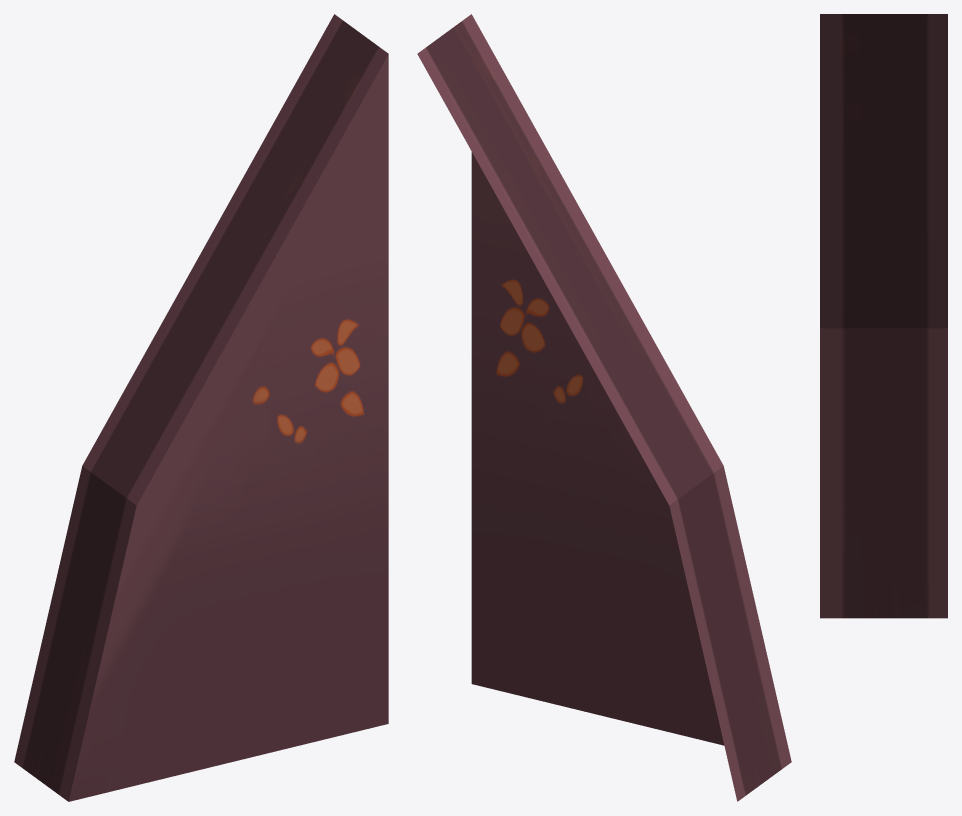
File: desertWallEndLarge_MESH.fbx
The picture shows the model from 3 angles, left to right: view 1: azimuth 30°, elevation 25°; view 2: azimuth 150°, elevation 25°; view 3: azimuth 270°, elevation 25°; orthographic projection. The views are drawn at different scales.
Visible parts, largest first — view 1: Desert_WallEndLLeft; view 2: Desert_WallEndLLeft; view 3: Desert_WallEndLLeft.
Part boxes in pixels (bbox=[...]): Desert_WallEndLLeft: bbox=[14, 14, 388, 801]; Desert_WallEndLLeft: bbox=[417, 14, 791, 801]; Desert_WallEndLLeft: bbox=[820, 14, 947, 618].
Size of the model in its own units: 100 by 200 by 29.44.
1 material, 1 textured.
